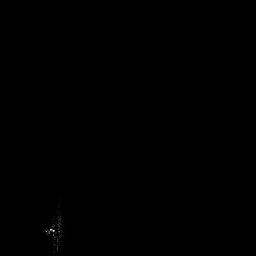ship: (45, 214, 65, 253)
